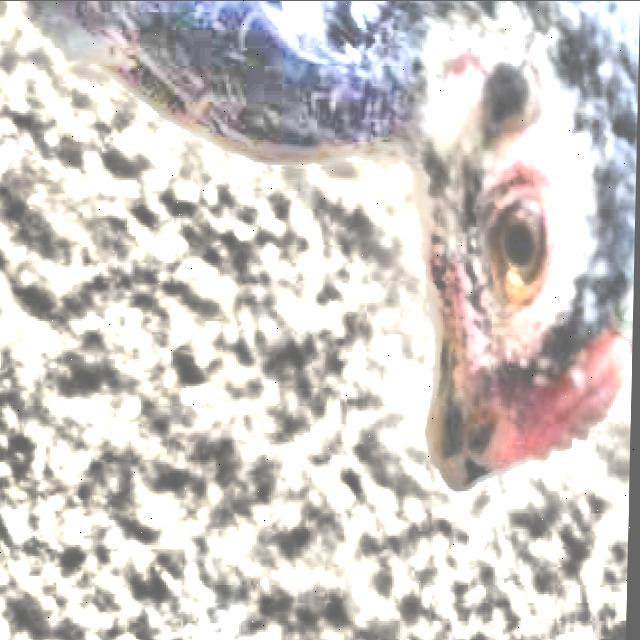Healthy: (478, 159, 555, 329)
